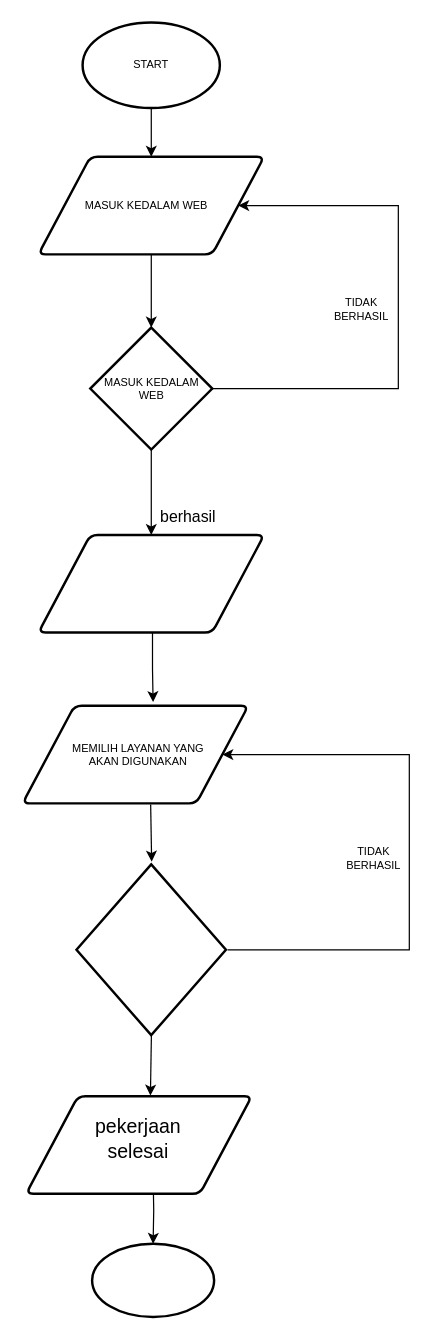
The diagram is 440 pixels wide and 1338 high, and some of its shapes have lost their labels. The centre of each missing label's shape, as x and y in pixels:
"BERHASIL MASUK KEDALAM WEB" belongs at pixel 151 583.
"end" belongs at pixel 152 1280.
"memenuhi kebutuhan client" belongs at pixel 151 949.
